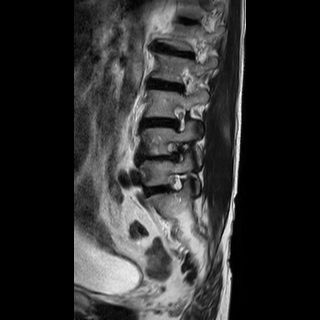LFS0: (166, 97, 195, 138), (163, 167, 191, 200)
